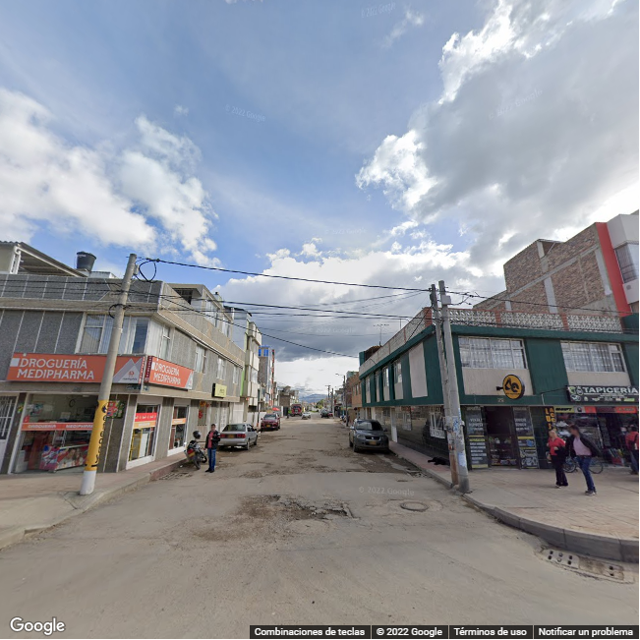D10: (53, 532, 161, 545), (367, 518, 444, 531)
D40: (242, 490, 348, 521)
